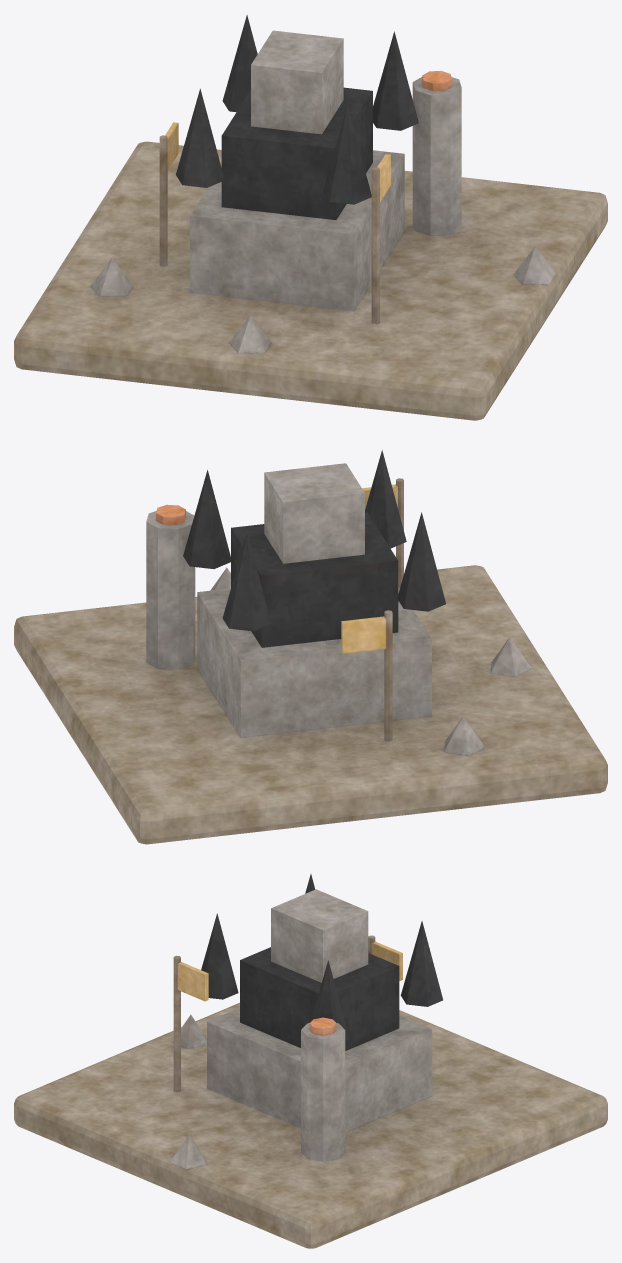
Rendered from capital_durgar.glb.
3 renders of one model, top to bottom at view 1: azimuth 30°, elevation 25°; view 2: azimuth 150°, elevation 25°; view 3: azimuth 270°, elevation 25°, orthographic. The views are drawn at different scales.
Visible parts, largest first — view 1: dilek; view 2: dilek; view 3: dilek.
Part boxes in pixels (<box>): dilek: <box>14,15,607,420</box>; dilek: <box>14,450,607,844</box>; dilek: <box>14,874,607,1248</box>.
Bounding box in the file's own units: 2.42 × 0.96 × 2.42.
1 material, 1 textured.
